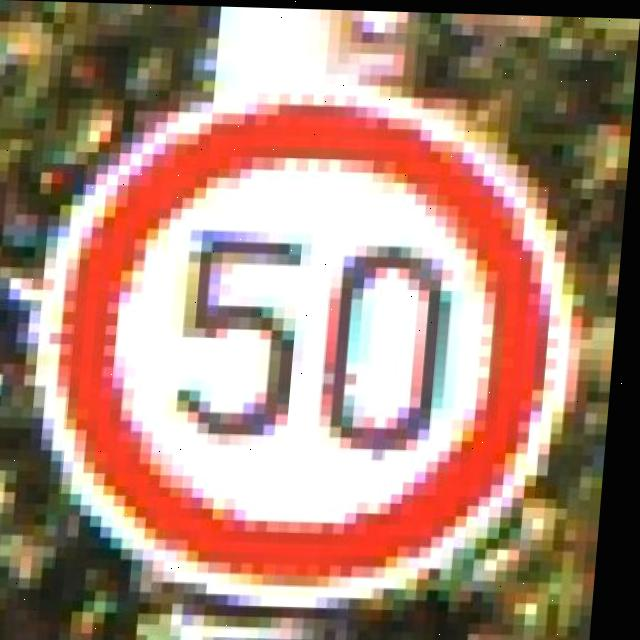Speed limit 50: (45, 94, 577, 595)
